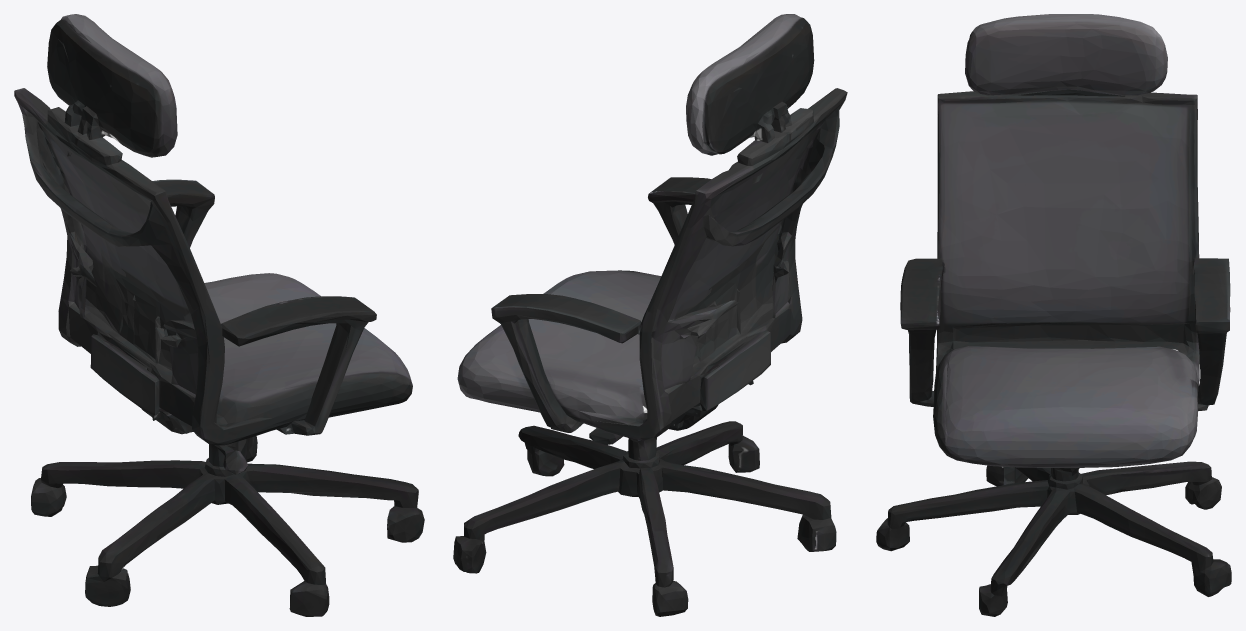
Rendered from office_chair_17.obj.
3 views of the same model, side by side, from view 1: azimuth 30°, elevation 25°; view 2: azimuth 150°, elevation 25°; view 3: azimuth 270°, elevation 25° (orthographic). The views are drawn at different scales.
Size of the model in its own units: 0.839 by 1.3 by 0.868.
1 material, 1 textured.
